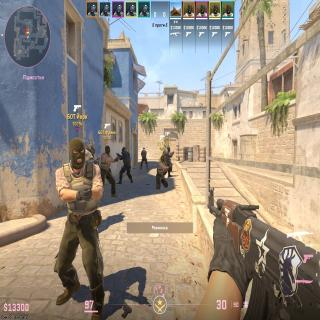CT-Body: (120, 146, 130, 184), (164, 146, 171, 175), (141, 147, 147, 168)
CT-Head: (87, 143, 95, 155), (122, 146, 126, 153), (167, 146, 170, 152), (143, 148, 145, 150)
T-Body: (56, 136, 104, 300), (102, 146, 114, 197), (157, 155, 165, 189)
T-Head: (69, 137, 86, 169), (106, 145, 110, 154), (160, 156, 164, 162)
